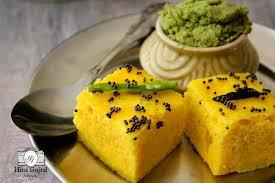yellow dhokla: (71, 60, 190, 183)
